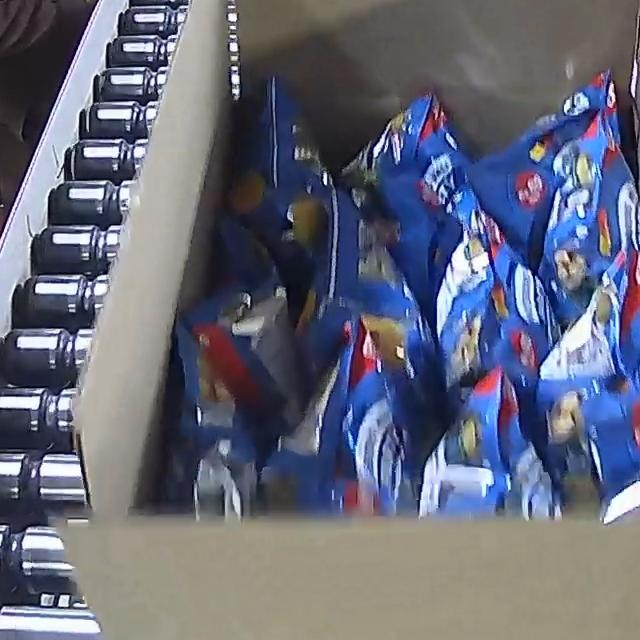paprika: (174, 62, 640, 521)
